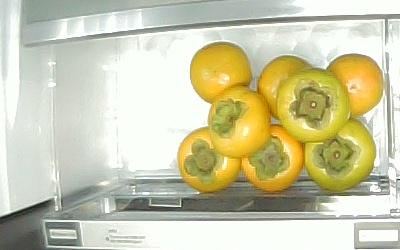persimmon: (276, 65, 350, 141), (304, 118, 375, 190), (206, 85, 270, 156), (177, 126, 242, 192), (241, 124, 304, 192), (189, 41, 251, 104), (257, 54, 314, 120), (325, 53, 383, 116)
